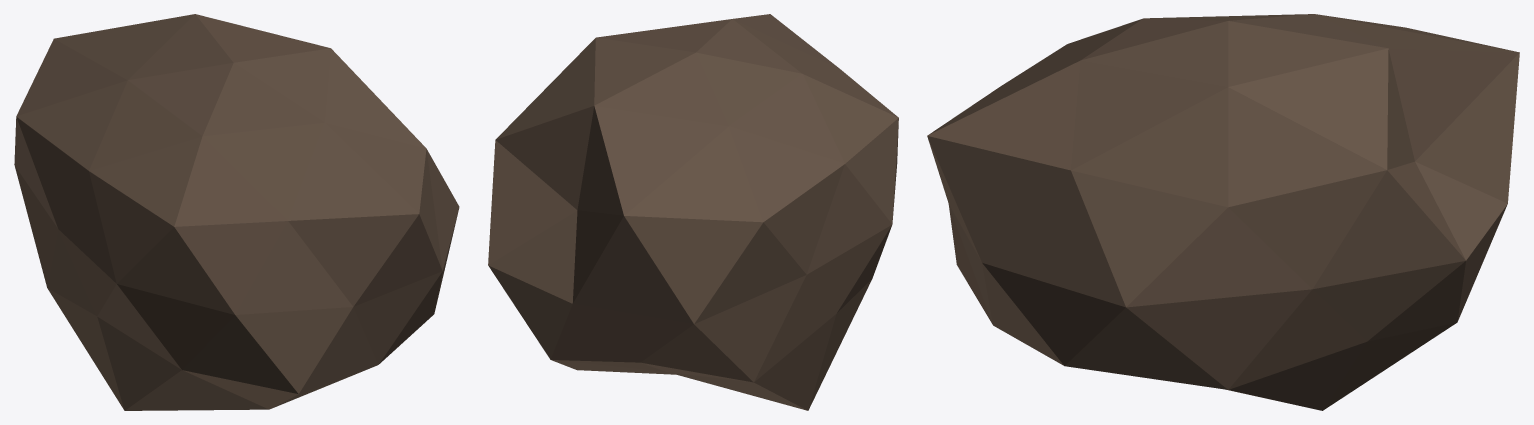
The model's file is debris_rocks.glb.
3 renders of one model, left to right at view 1: azimuth 30°, elevation 25°; view 2: azimuth 150°, elevation 25°; view 3: azimuth 270°, elevation 25°, orthographic. The views are drawn at different scales.
Parts seen in each view (by area): view 1: debris_rock_0; view 2: debris_rock_0; view 3: debris_rock_0.
Boxes of the visible parts, bbox=[...] form: debris_rock_0: bbox=[14, 14, 459, 410]; debris_rock_0: bbox=[488, 14, 898, 410]; debris_rock_0: bbox=[927, 14, 1519, 410].
Bounding box in the file's own units: 1.47 × 1.34 × 1.92.
